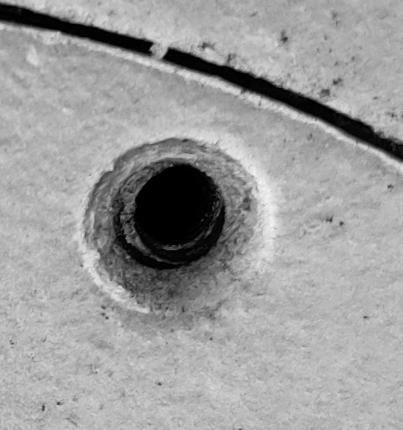missing-head: (1, 1, 403, 430)
